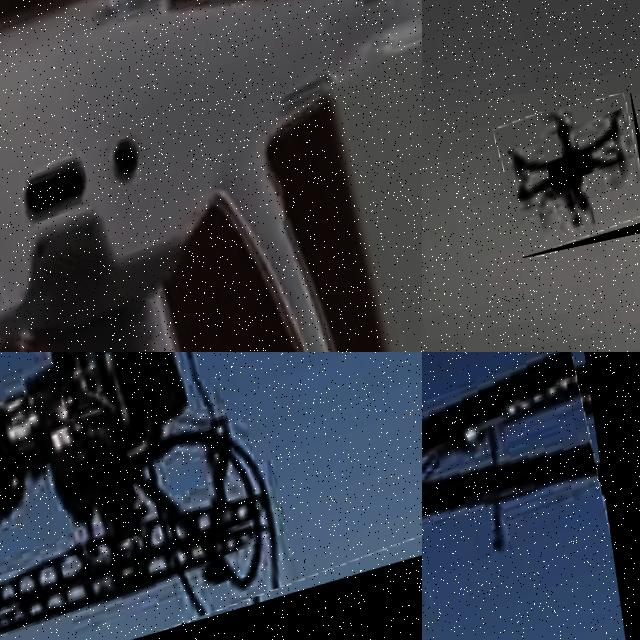drone: (0, 0, 422, 352), (0, 352, 422, 640), (422, 352, 640, 640), (493, 92, 640, 257)
